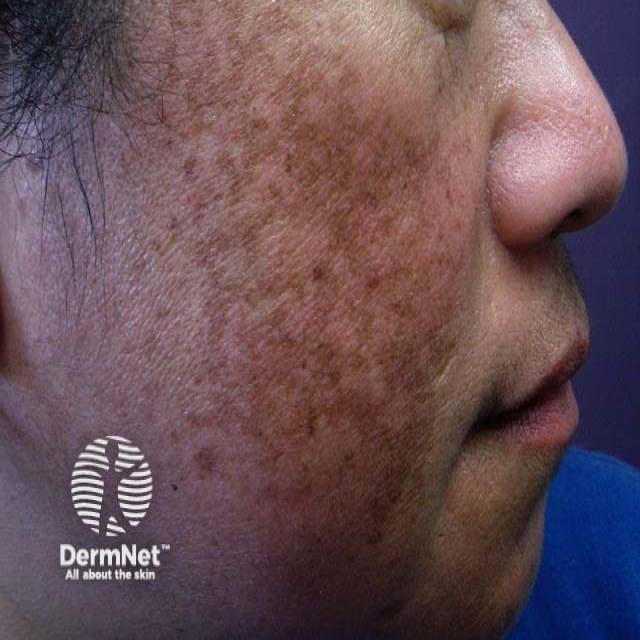Melasma: (149, 0, 458, 570)
